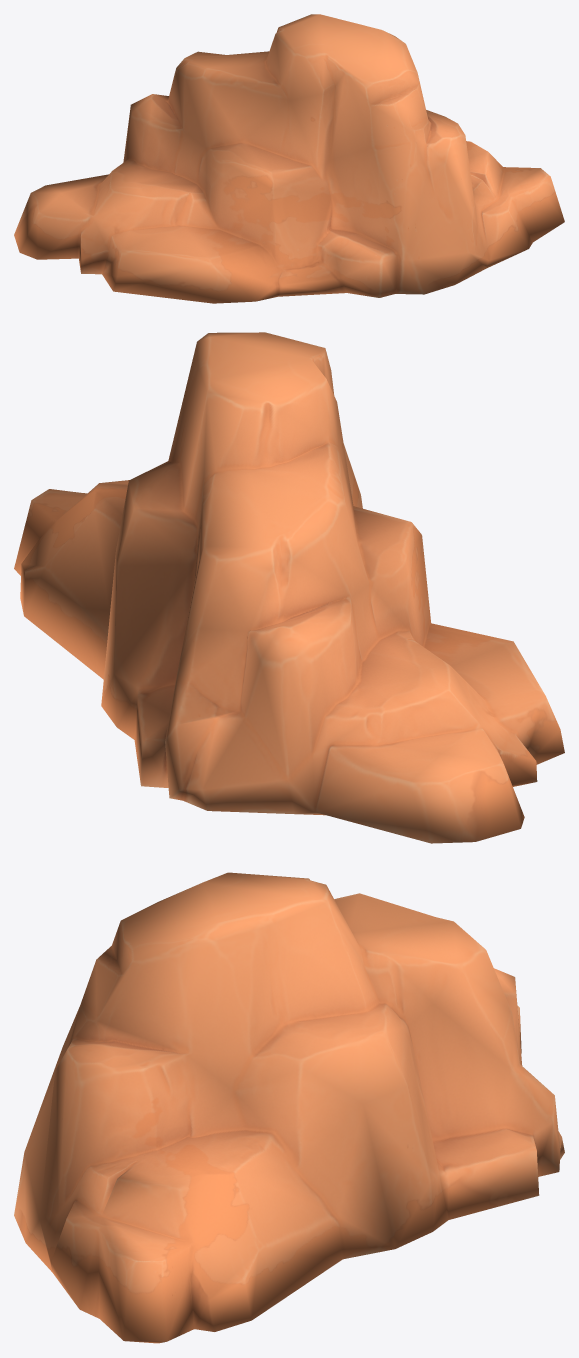
The model's file is Rock_2.fbx.
The picture shows the model from 3 angles, top to bottom: view 1: azimuth 30°, elevation 25°; view 2: azimuth 150°, elevation 25°; view 3: azimuth 270°, elevation 25°; orthographic projection. The views are drawn at different scales.
Parts seen in each view (by area): view 1: Rock_2; view 2: Rock_2; view 3: Rock_2.
Part boxes in pixels (x1,y1,x2,y2): Rock_2: (14, 14, 564, 303); Rock_2: (14, 332, 564, 843); Rock_2: (14, 872, 564, 1343).
Size of the model in its own units: 465 by 217 by 339.
1 material, 1 textured.
